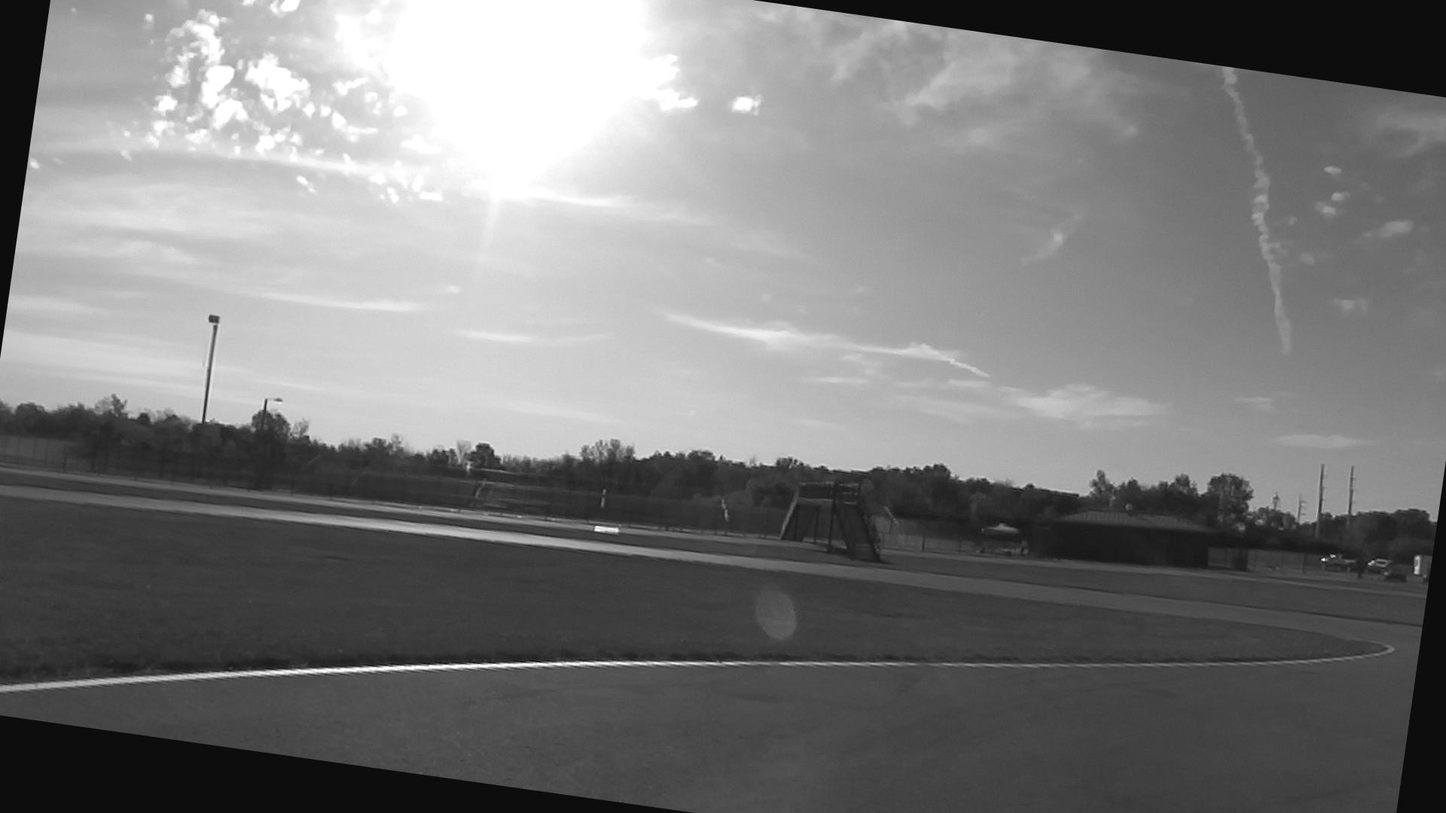white-line: (0, 645, 1395, 694)
